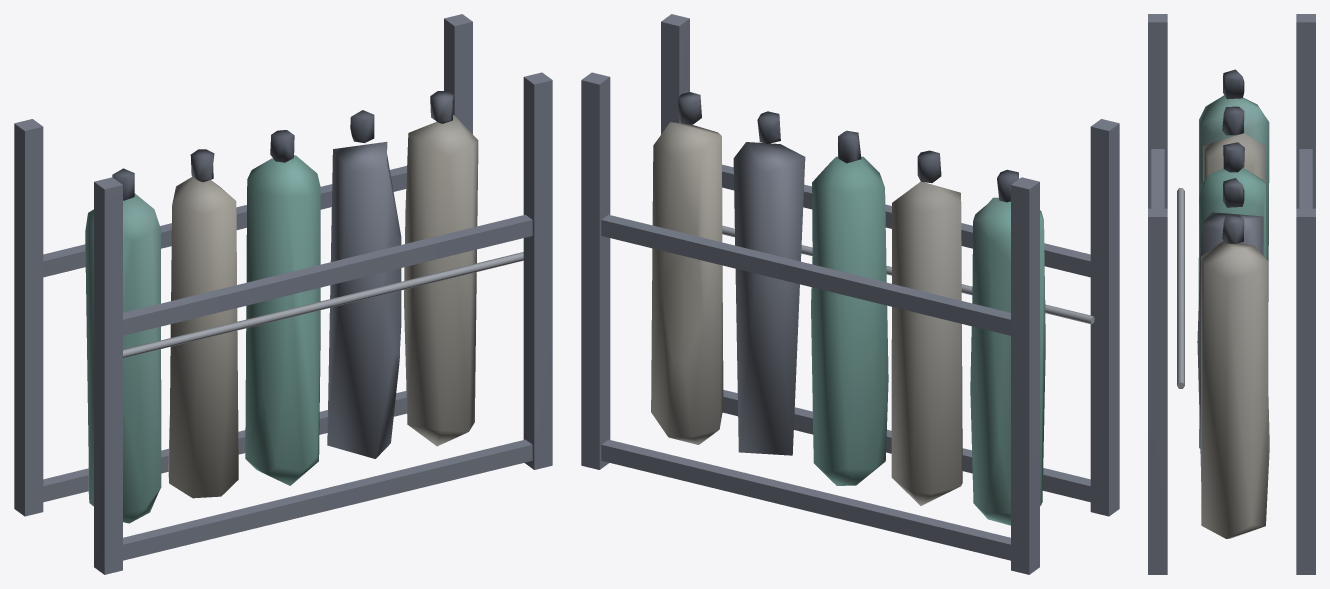
The model's file is bay_gas.glb.
3 views of the same model, side by side, from view 1: azimuth 30°, elevation 25°; view 2: azimuth 150°, elevation 25°; view 3: azimuth 270°, elevation 25° (orthographic). The views are drawn at different scales.
Visible parts, largest first — view 1: gas; view 2: gas; view 3: gas.
Boxes of the visible parts, x1,y1,x2,y2 form: gas: [14, 14, 552, 574]; gas: [581, 14, 1119, 574]; gas: [1148, 14, 1315, 574].
Bounding box in the file's own units: 1.46 × 1.2 × 0.51.
